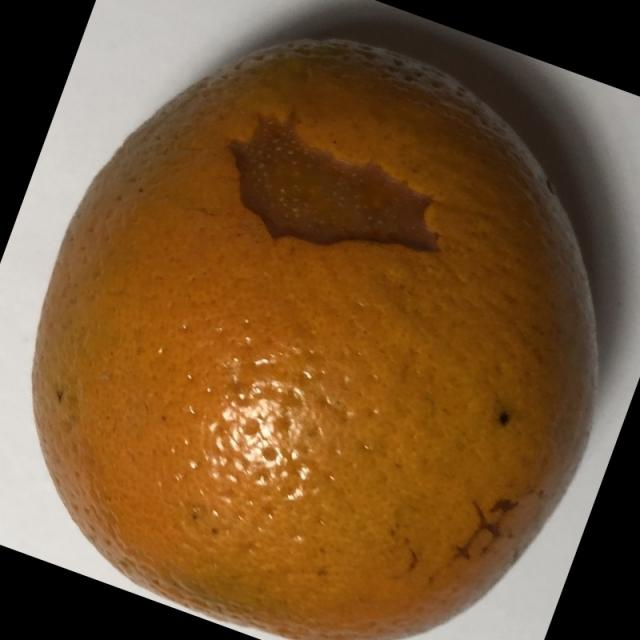canker: (16, 34, 620, 640)
